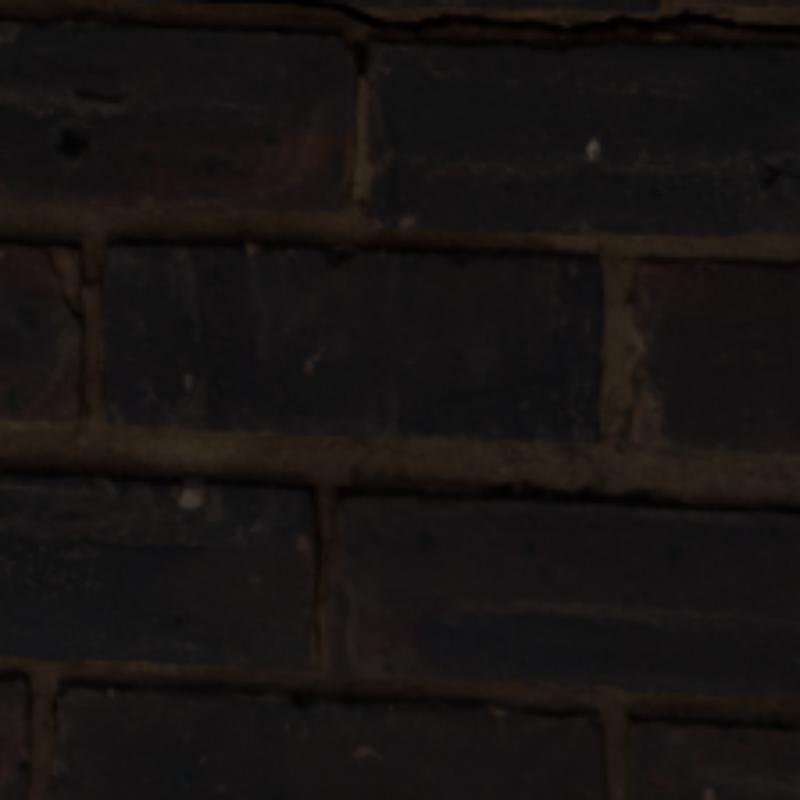pothole: (225, 0, 796, 36)
